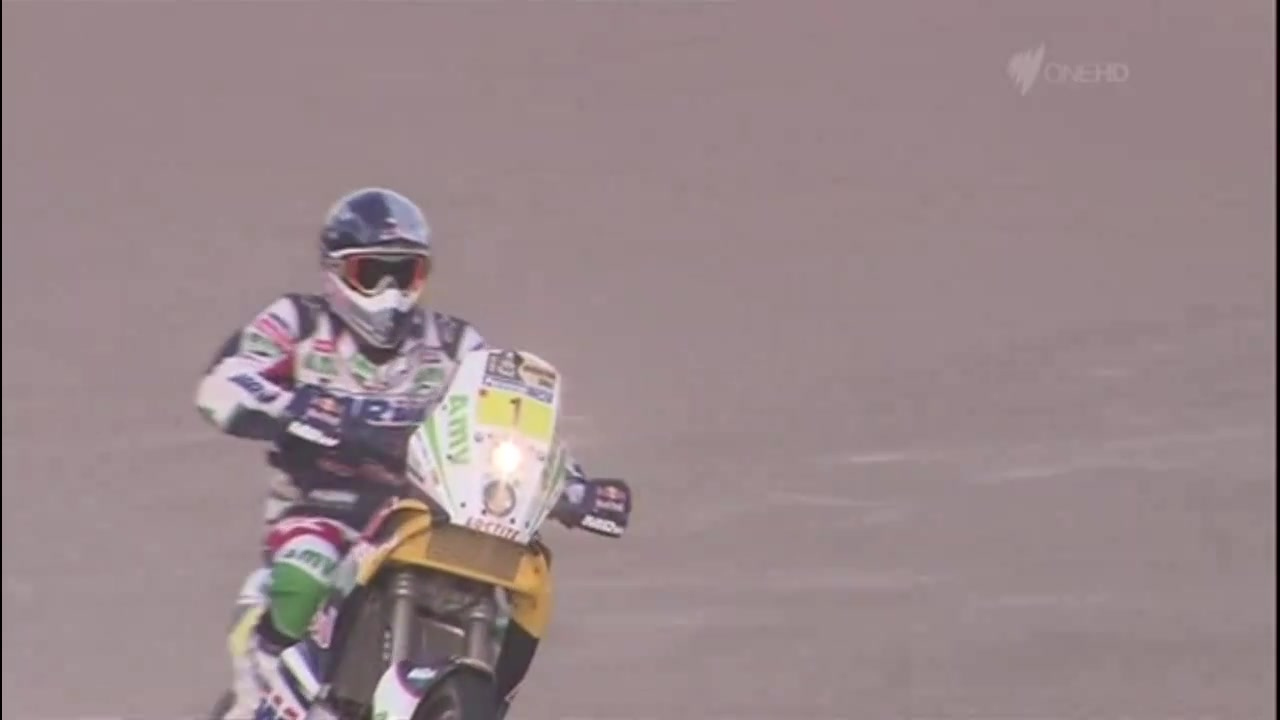motorbike: (267, 348, 633, 720)
